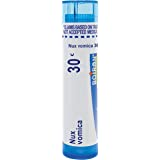Medicine: (55, 0, 107, 160)
